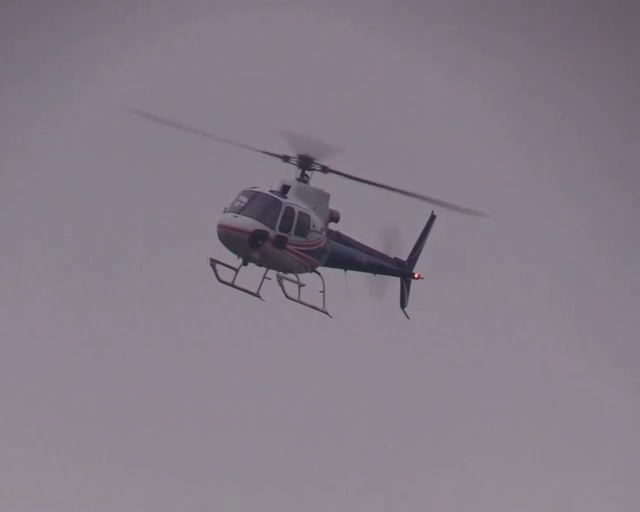HELICOPTER: (126, 110, 492, 315)
